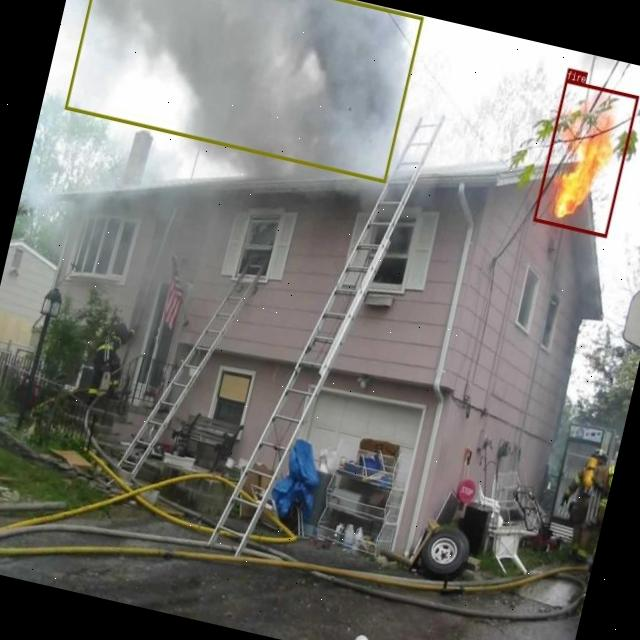fire: (533, 78, 639, 237)
smoke: (64, 0, 423, 182)
